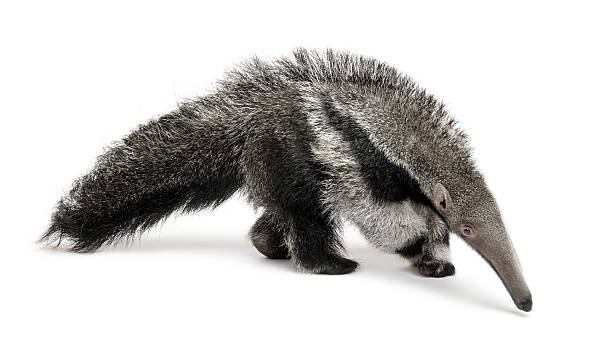TamanduaBandeira: (32, 44, 537, 317)
